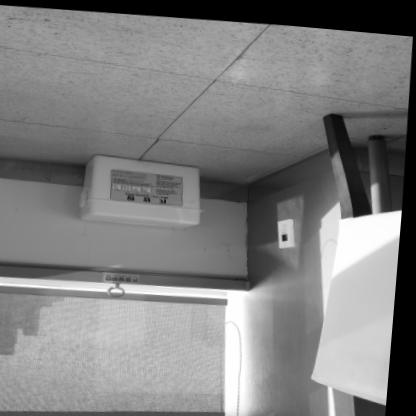DDL: (79, 149, 210, 227)
